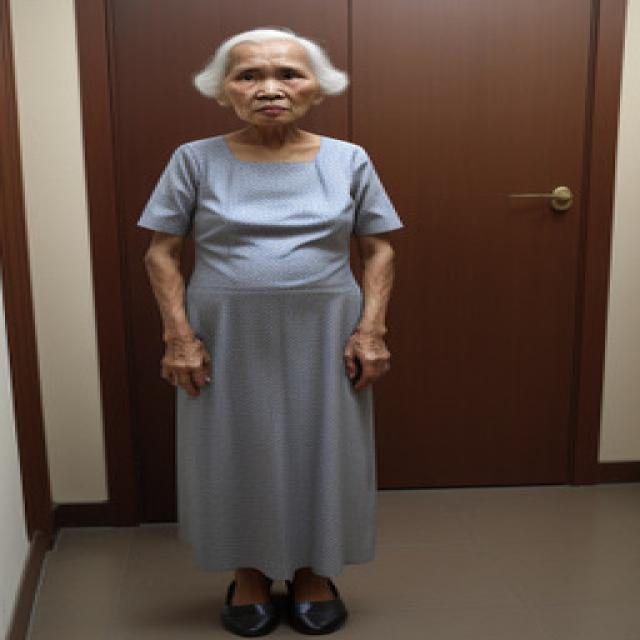Ai human 2: (121, 17, 443, 640)
